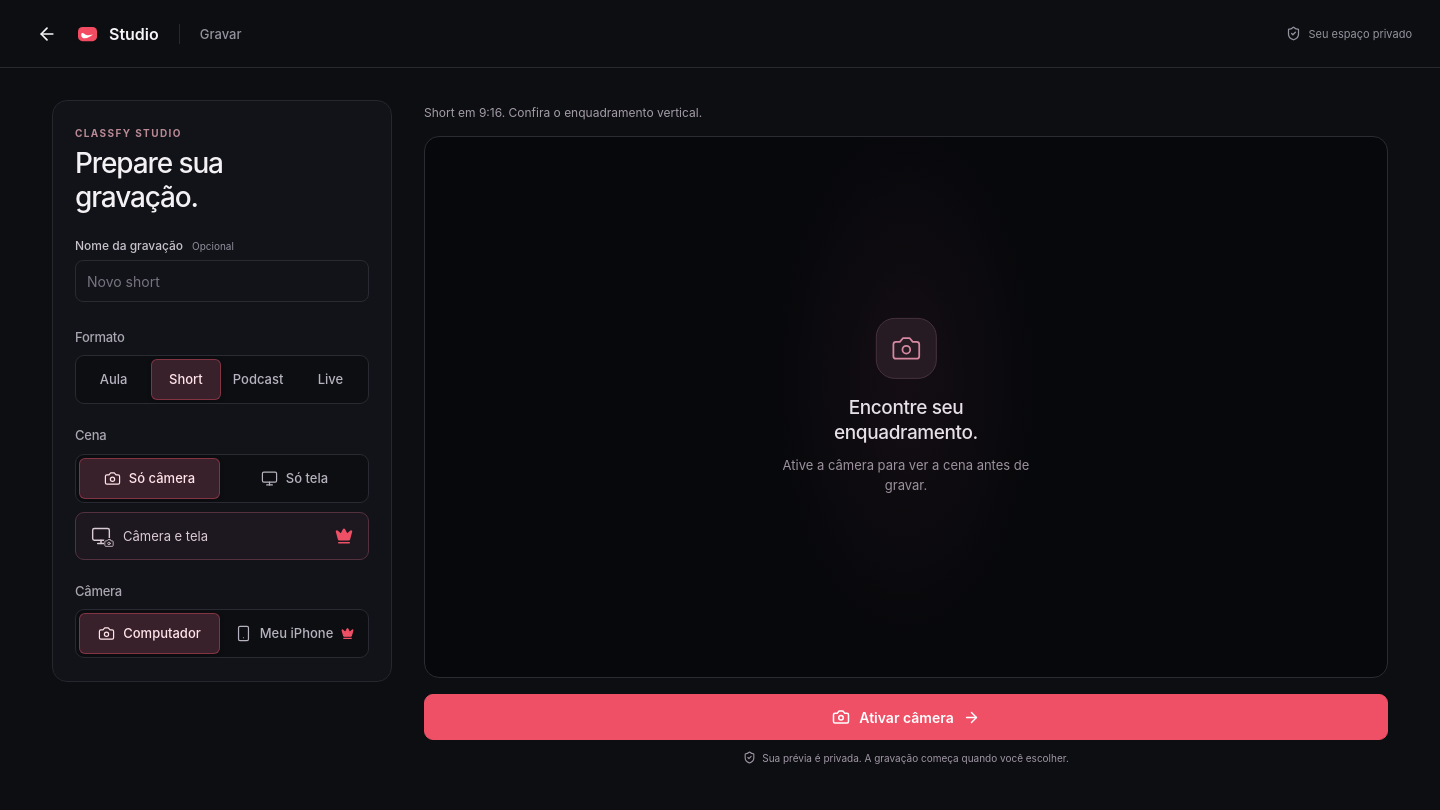
Test: funil de gravação com componente, captura e sessão reais › trocar formato e layout permite voltar sem pedir permissão, iniciar REC ou criar rascunho
Earlier steps of the test are not shown.
Expected: the button "Short" is pressed, [151, 359, 221, 400]
Click the button "Podcast". click: (258, 380)
box: [224, 359, 293, 400]
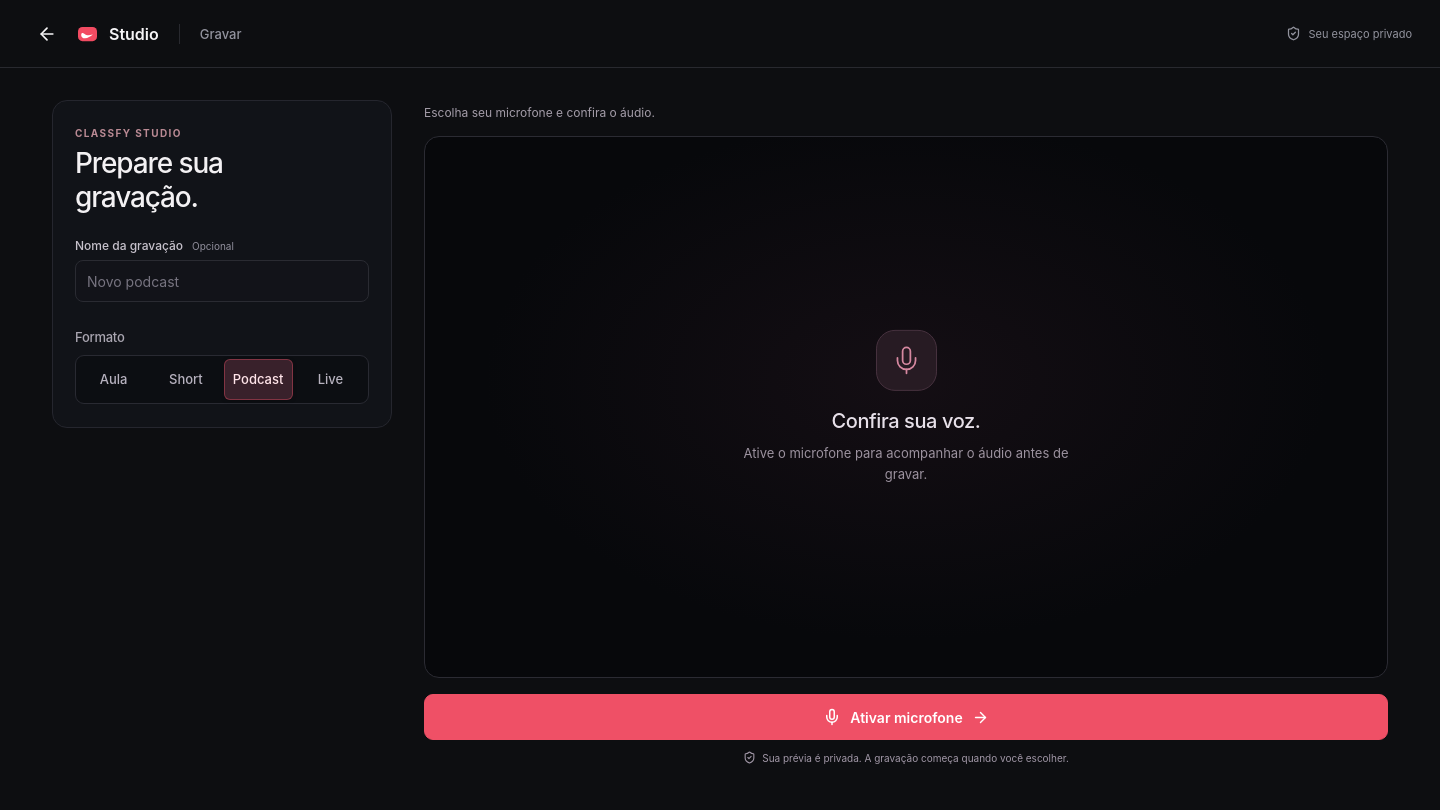
Expected: the button "Podcast" is pressed, [224, 359, 293, 400]
Click the button "Live". click: (330, 380)
box: [296, 359, 365, 400]
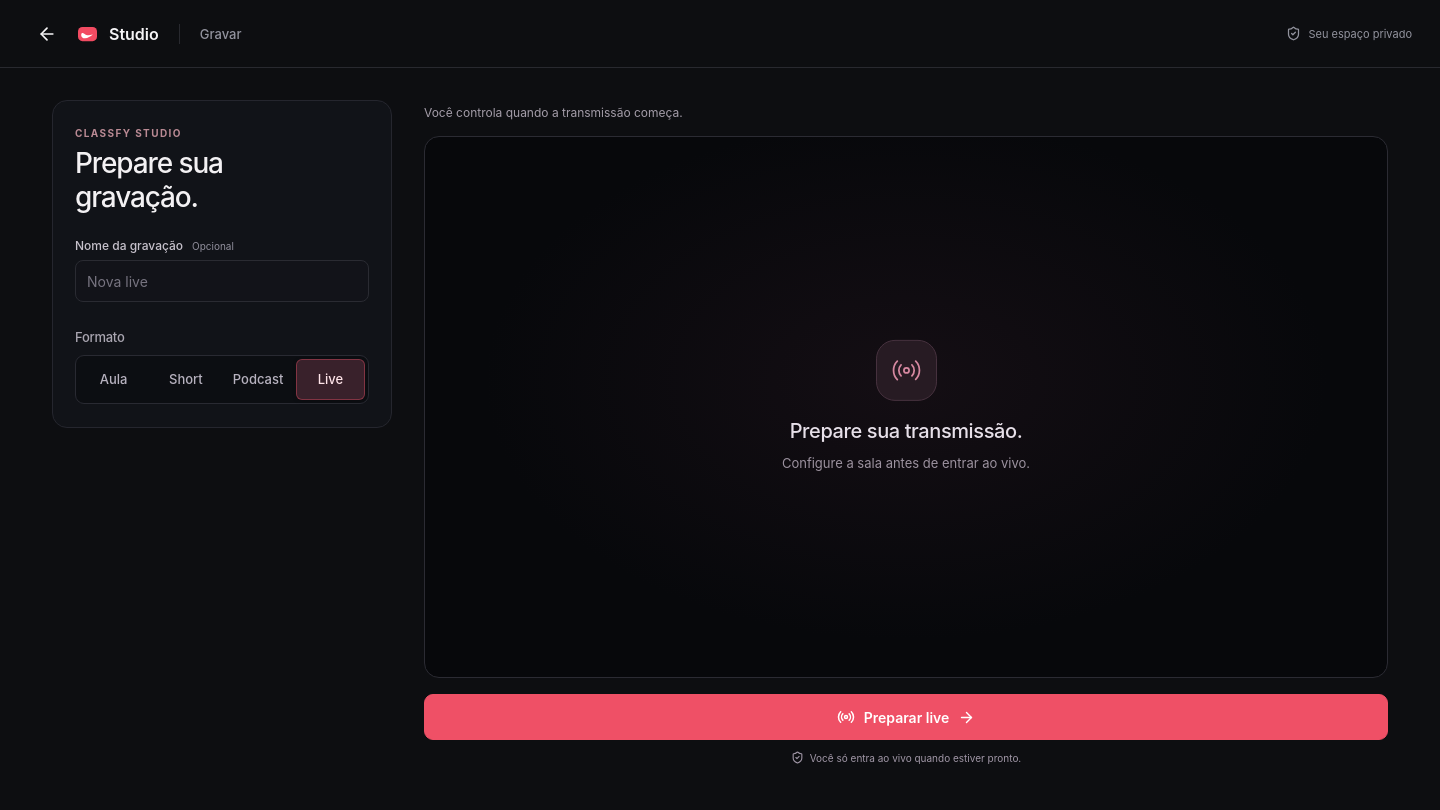
Expected: the button "Live" is pressed, [296, 359, 365, 400]
Click the button "Aula". click: (114, 380)
box: [79, 359, 148, 400]
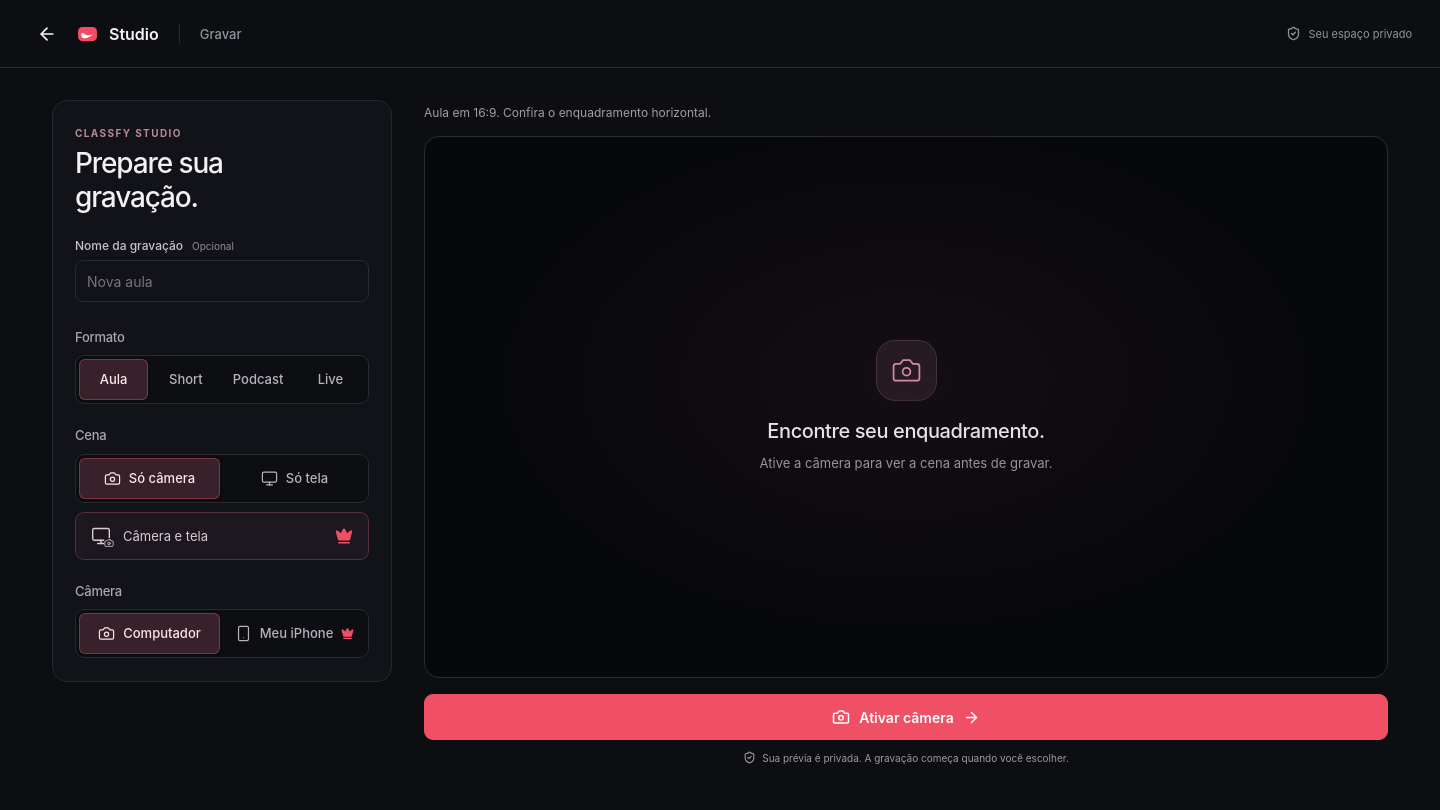
Expected: the button "Só tela" is shown
Click the button "Só tela". click: (294, 478)
box: [224, 458, 365, 499]
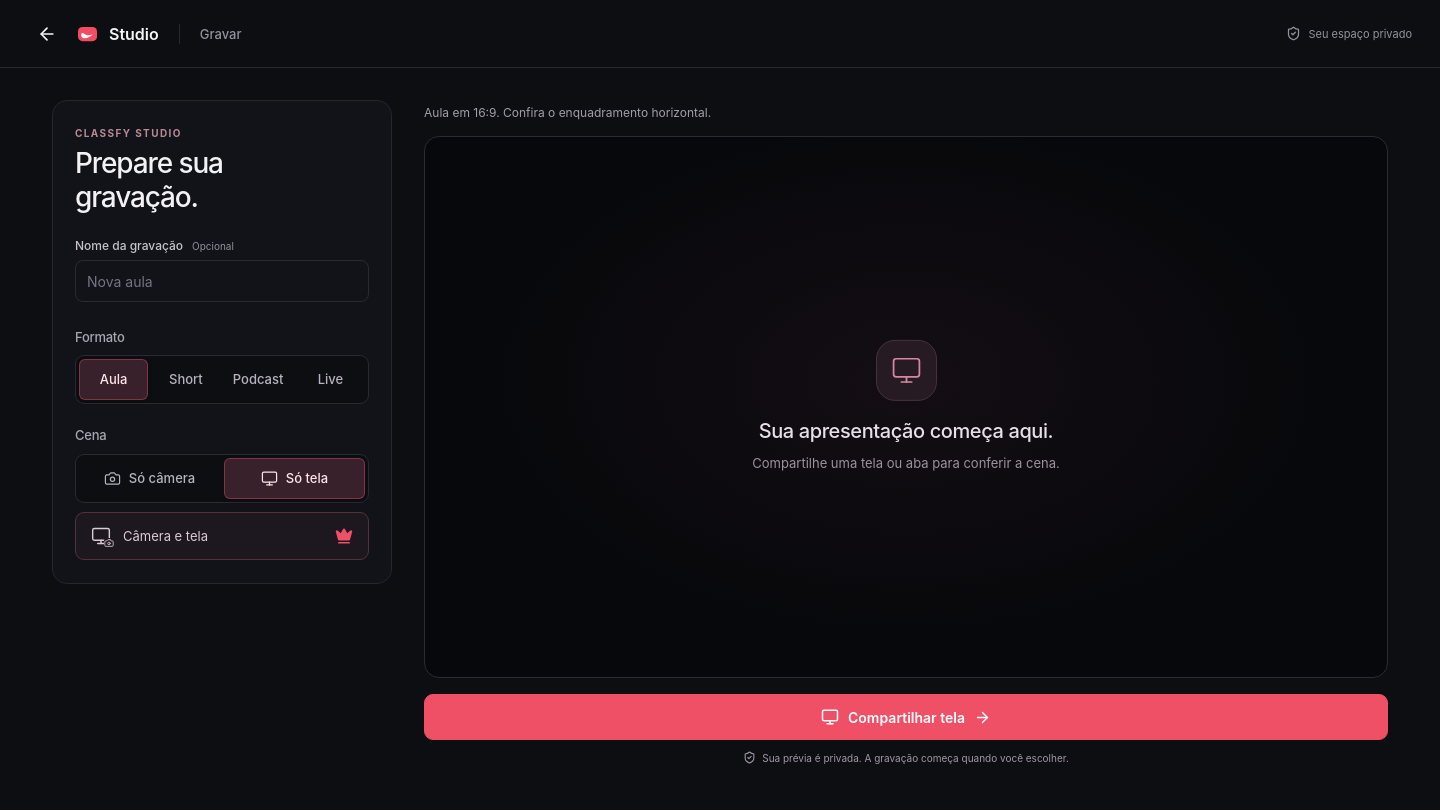
Expected: the button "Compartilhar tela" is shown, [424, 694, 1388, 740]
Expected: the button "Só câmera" is shown
Click the button "Só câmera". click: (150, 478)
box: [79, 458, 220, 499]
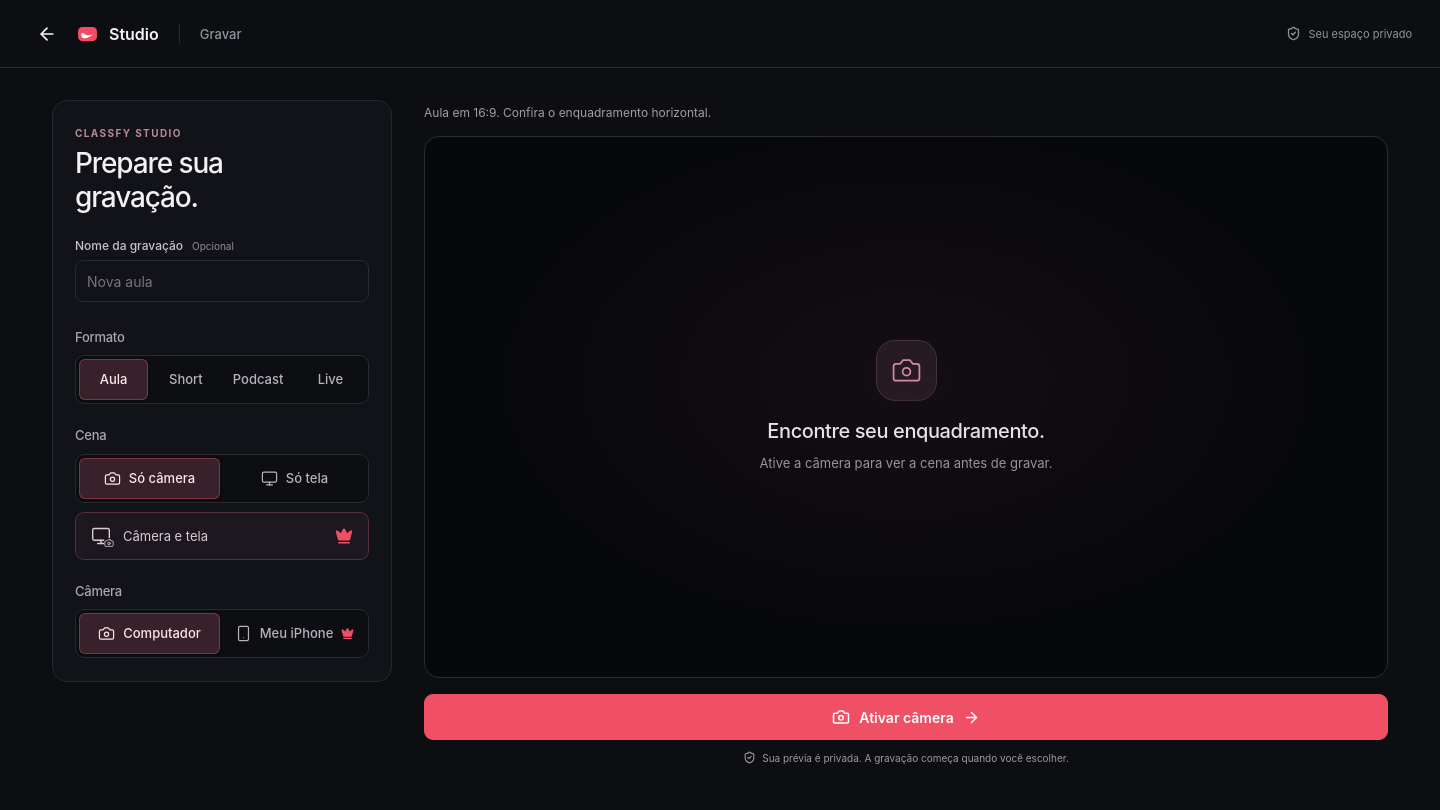
Expected: the button "Ativar câmera" is shown, [424, 694, 1388, 740]
Click the button named "Voltar aos projetos". click: (47, 34)
box: [28, 14, 66, 52]
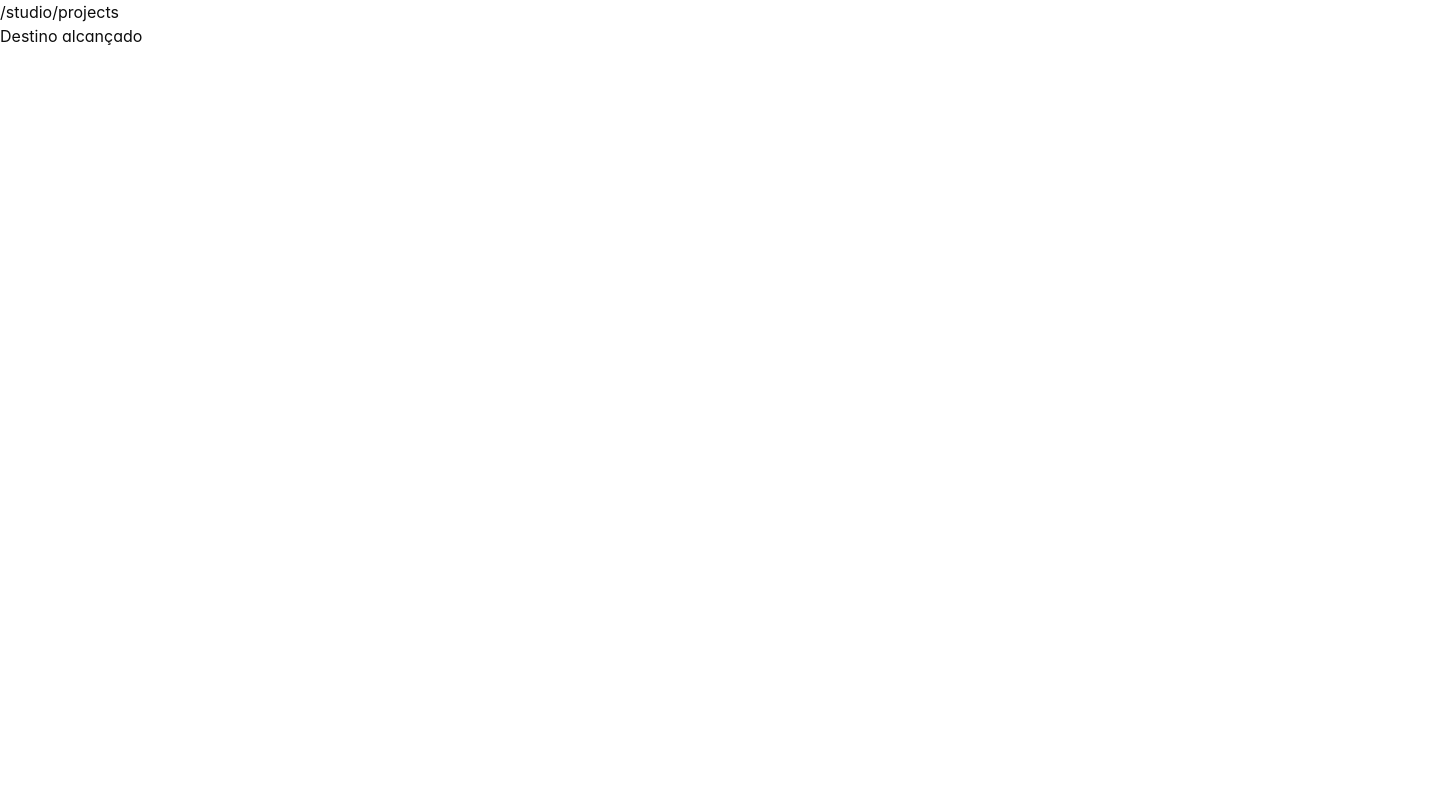
Expected: the text "/studio/projects" is shown, [0, 2, 119, 22]
